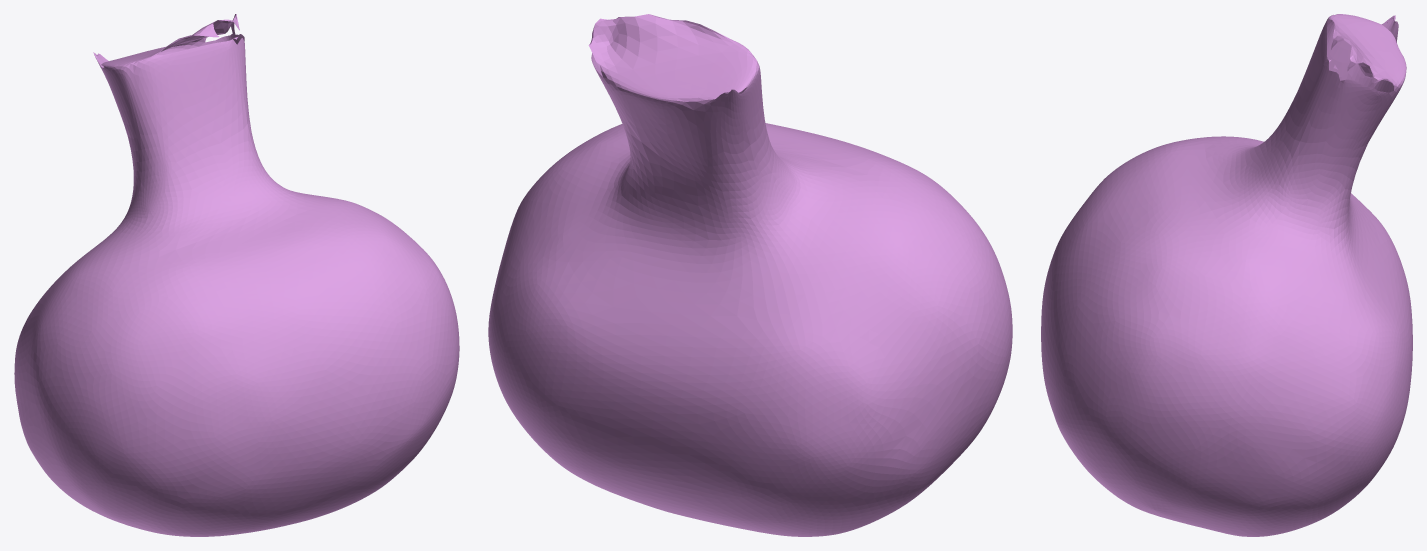
Rendered from ipofisi.glb.
3 views of the same model, side by side, from view 1: azimuth 30°, elevation 25°; view 2: azimuth 150°, elevation 25°; view 3: azimuth 270°, elevation 25° (orthographic). The views are drawn at different scales.
Parts seen in each view (by area): view 1: pituitary gland; view 2: pituitary gland; view 3: pituitary gland.
Boxes of the visible parts, x1,y1,x2,y2 form: pituitary gland: [14, 14, 459, 536]; pituitary gland: [488, 14, 1012, 536]; pituitary gland: [1041, 14, 1412, 536].
Size of the model in its own units: 12.19 by 13.24 by 9.37.
